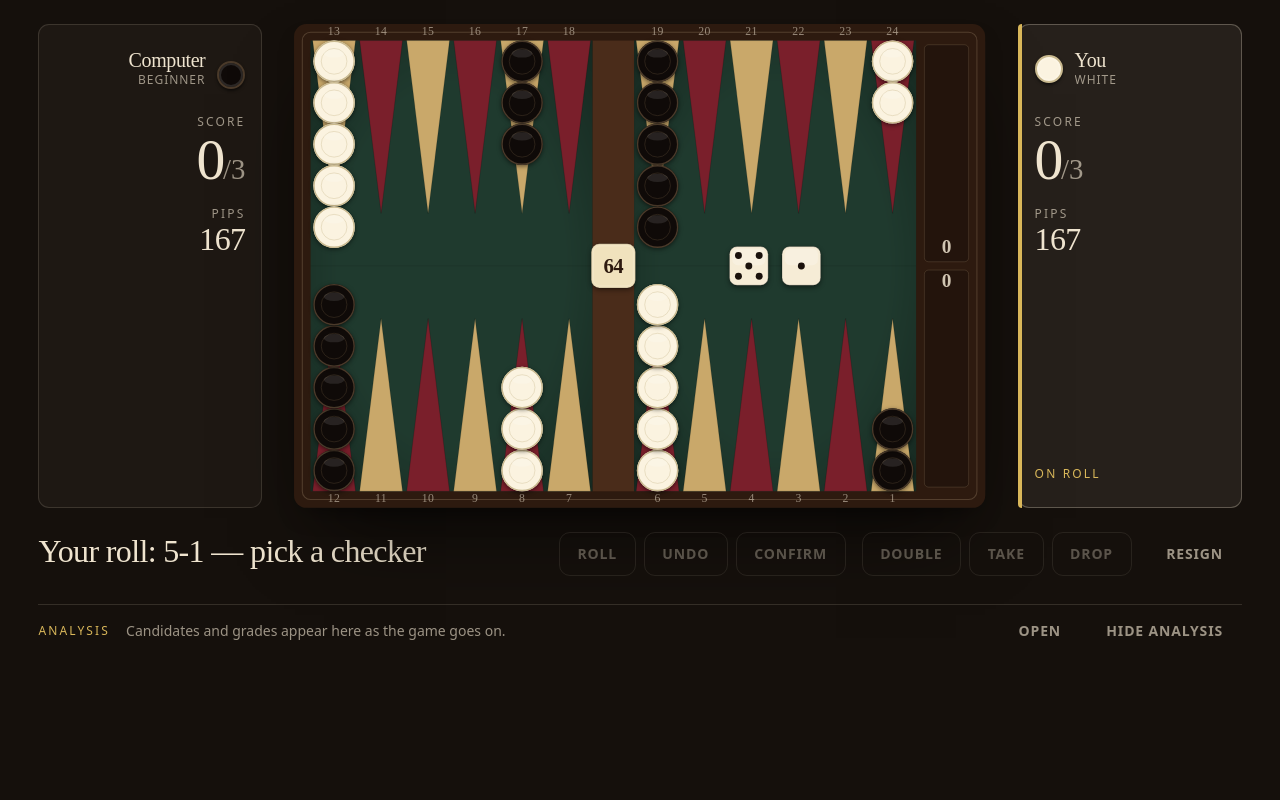
it: <TableLayout> › shows the finished game of a match with the score and waits for Next game
The image size is (1280, 800).
Click the button "Resign": (1195, 554) [1148,532,1242,576]
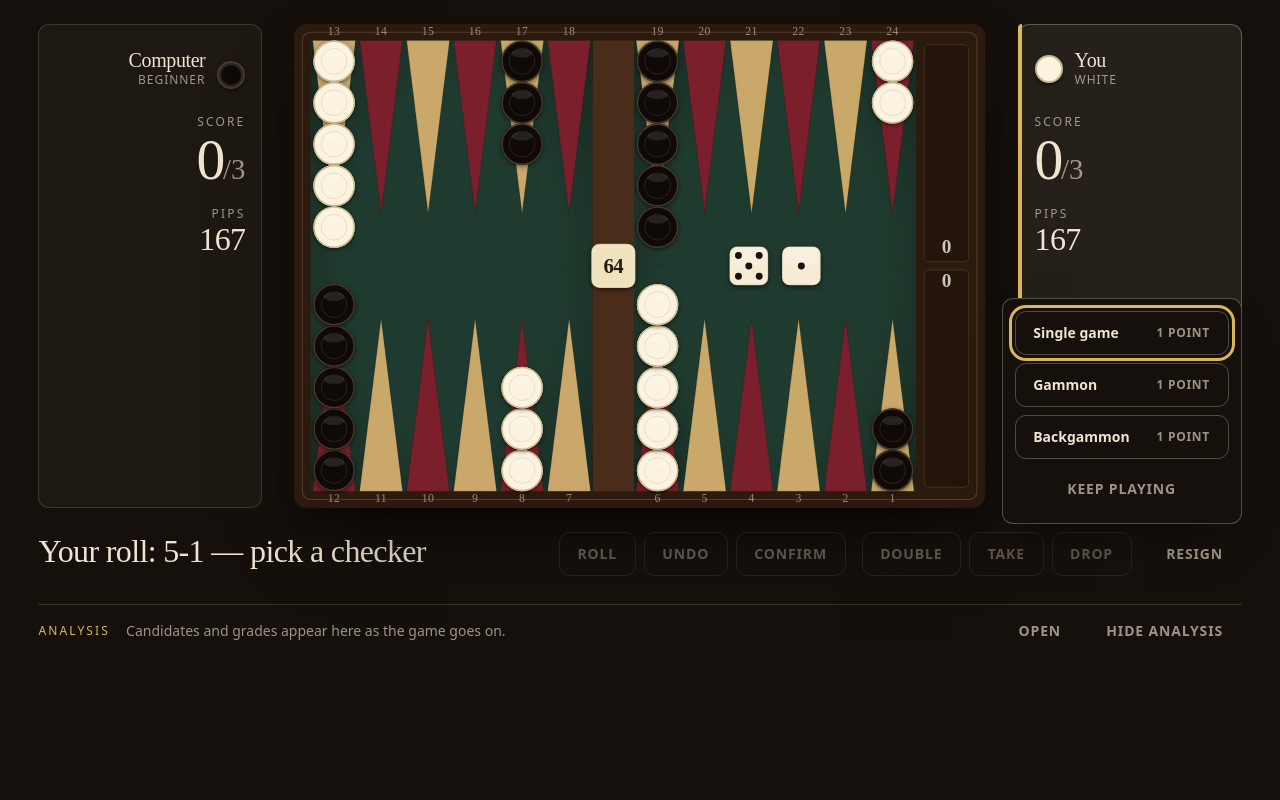
Click the button "Single game 1 point": (1122, 333) [1015,311,1229,355]
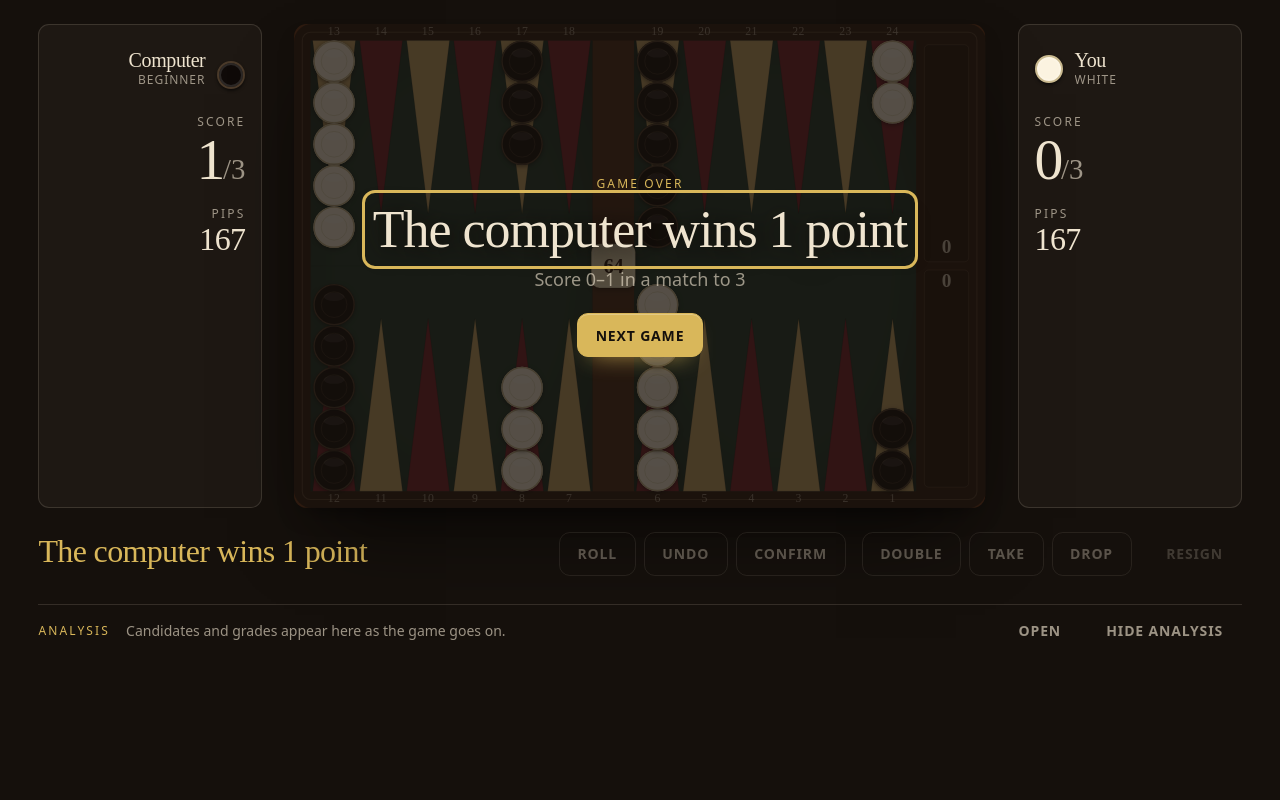
Expected: the heading "The computer wins 1 point" is shown, [373,201,907,258]
Expected: the text "Score 0–1 in a match to 3" is shown, [534,266,746,293]
Expected: the message reads "The computer wins 1 point", [38,533,367,569]
Click the button "Next game": (640, 335) [577,313,703,357]
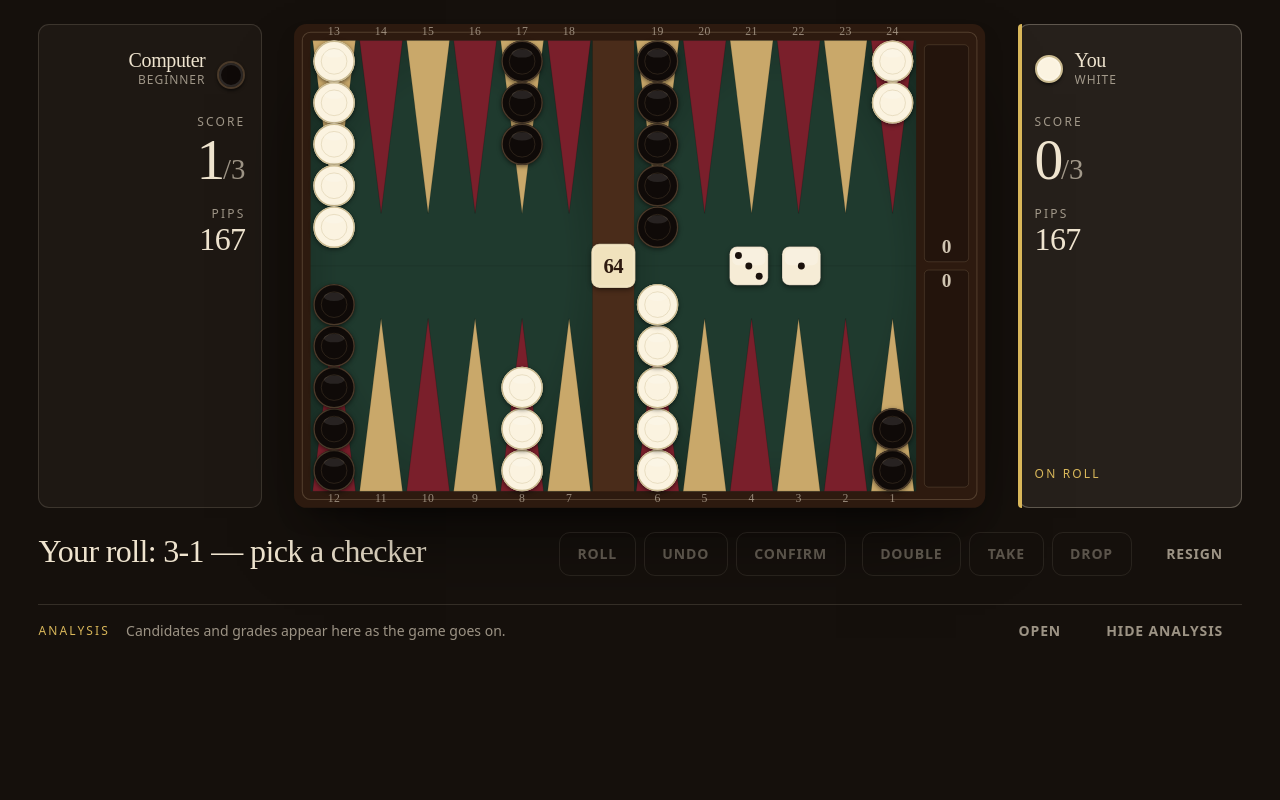
Expected: the button "Next game" is gone
Expected: the message shows "Your roll: 3-1", [38,533,426,569]
